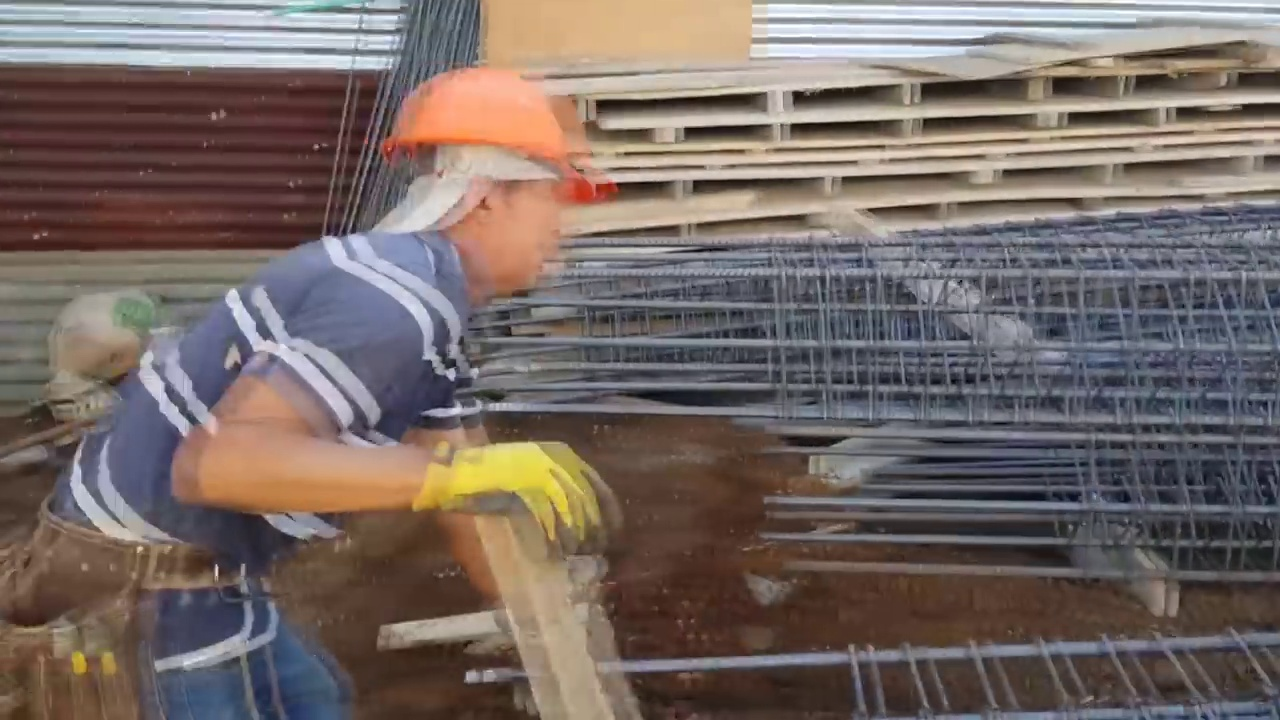helmet: (378, 58, 620, 203)
helmet-on: (370, 57, 621, 303)
person: (6, 54, 624, 719)
